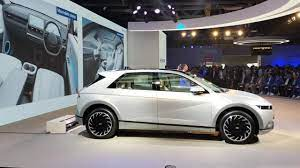Honda Ioniq: (74, 64, 278, 146)
